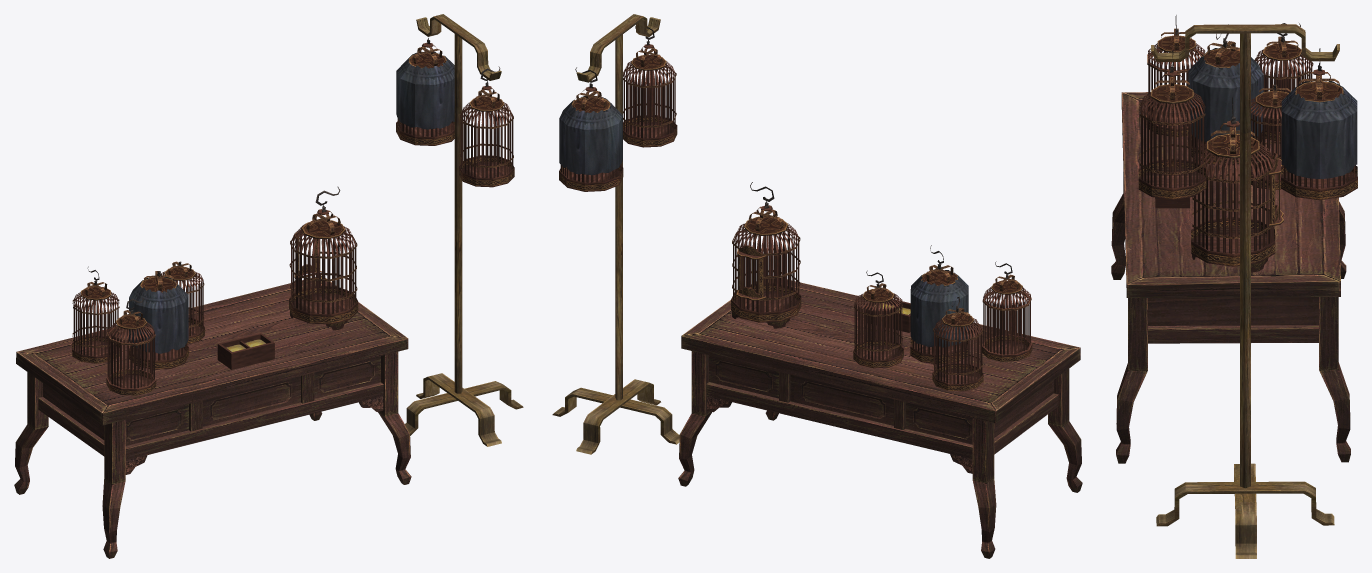
Rendered from 鸟笼摊01.fbx.
The picture shows the model from 3 angles, left to right: view 1: azimuth 30°, elevation 25°; view 2: azimuth 150°, elevation 25°; view 3: azimuth 270°, elevation 25°; orthographic projection. The views are drawn at different scales.
Parts seen in each view (by area): view 1: qingmo_obj_257 [10484567]; view 2: qingmo_obj_257 [10484567]; view 3: qingmo_obj_257 [10484567].
Boxes of the visible parts, x1,y1,x2,y2 form: qingmo_obj_257 [10484567]: [14, 14, 523, 558]; qingmo_obj_257 [10484567]: [552, 14, 1082, 558]; qingmo_obj_257 [10484567]: [1111, 15, 1357, 558].
Size of the model in its own units: 22.98 by 8.28 by 18.44.
2 materials, 2 textured.
